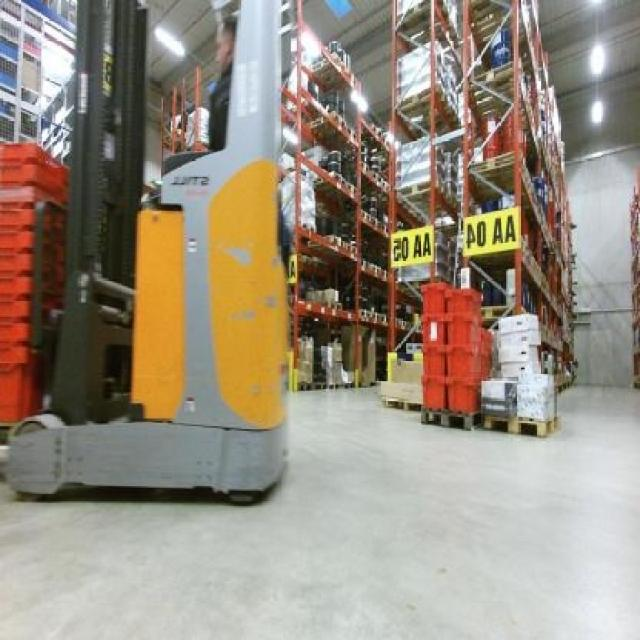floor: (0, 385, 637, 637)
pallets: (0, 142, 65, 423), (422, 282, 489, 412)
